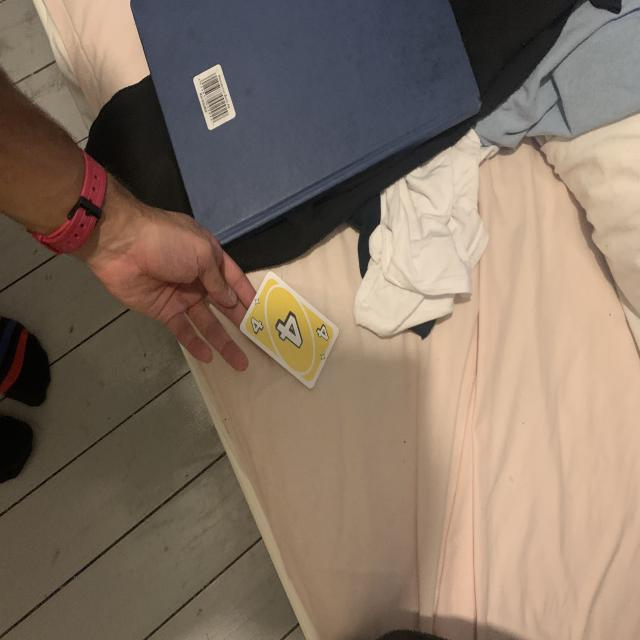lyellow-4: (248, 316, 266, 338)
